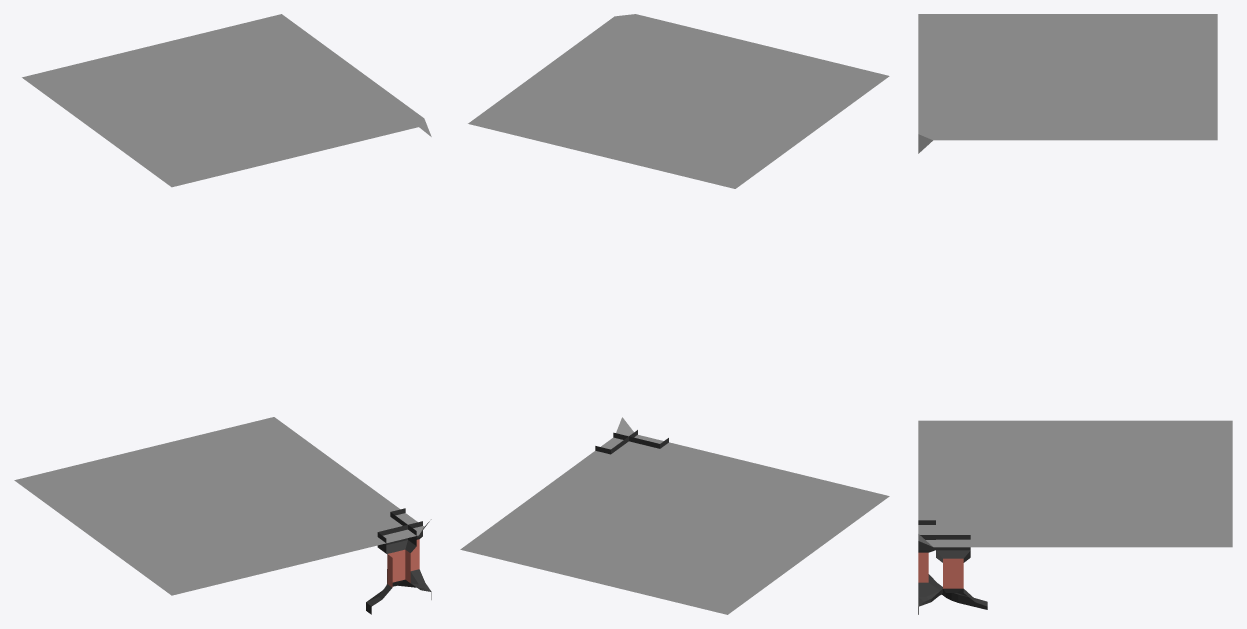
File: Building_Inside_Corner.fbx
3 renders of one model, left to right at view 1: azimuth 30°, elevation 25°; view 2: azimuth 150°, elevation 25°; view 3: azimuth 270°, elevation 25°, orthographic. The views are drawn at different scales.
Visible parts, largest first — view 1: Building_Inside_Corner; view 2: Building_Inside_Corner; view 3: Building_Inside_Corner.
Part boxes in pixels (x1,y1,x2,y2): Building_Inside_Corner: (14,14,431,614); Building_Inside_Corner: (460,14,889,614); Building_Inside_Corner: (918,14,1232,614).
Bounding box in the file's own units: 200 × 350 × 210.
